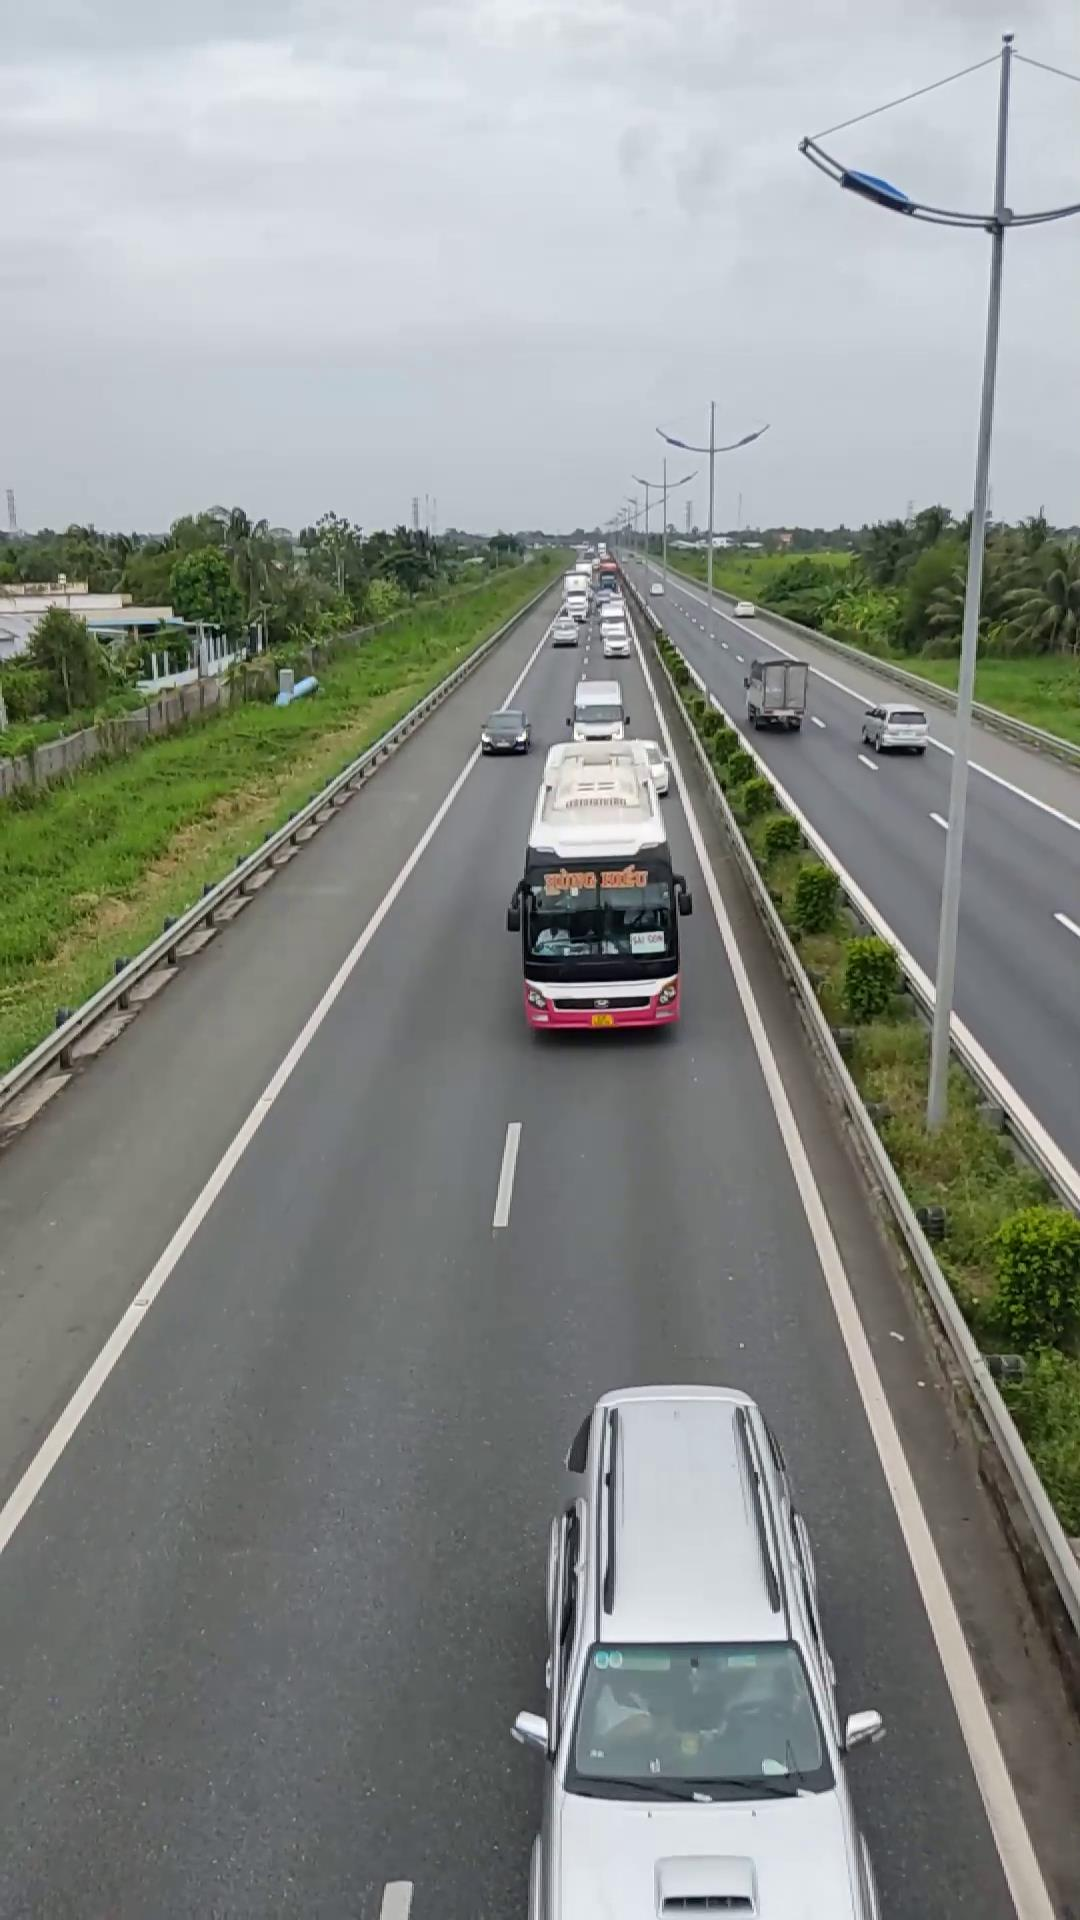bus: (506, 738, 688, 1036)
car: (513, 1383, 885, 1919)
truck: (742, 654, 808, 729)
